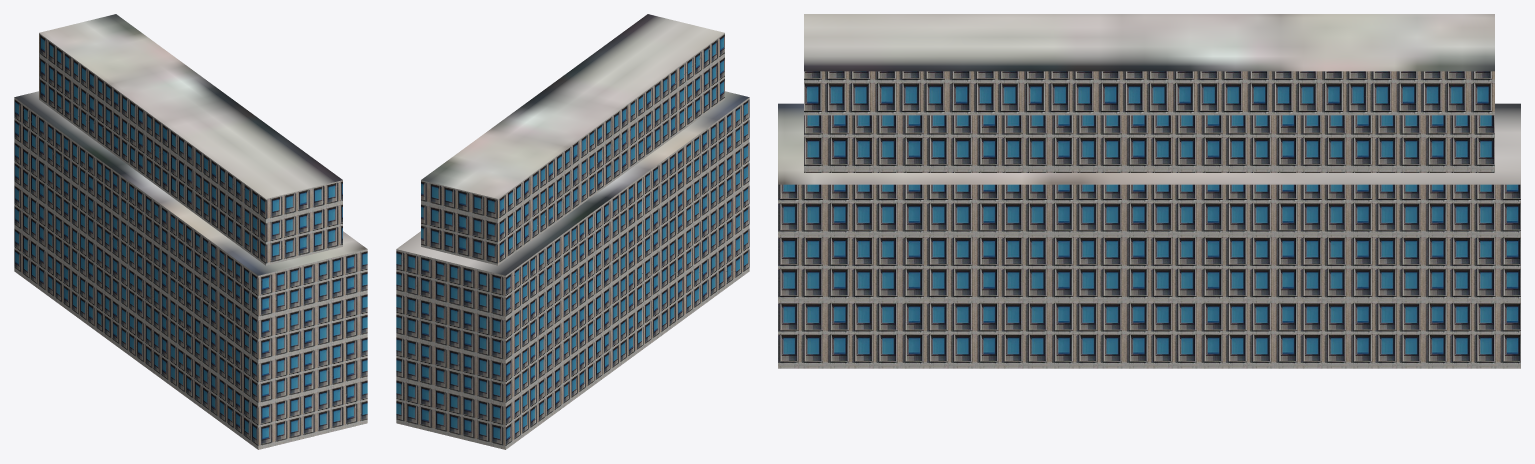
The model's file is ml_ksh.glb.
The picture shows the model from 3 angles, left to right: view 1: azimuth 30°, elevation 25°; view 2: azimuth 150°, elevation 25°; view 3: azimuth 270°, elevation 25°; orthographic projection. The views are drawn at different scales.
Parts seen in each view (by area): view 1: Cube.001; view 2: Cube.001; view 3: Cube.001.
Boxes of the visible parts, x1,y1,x2,y2 form: Cube.001: (14,14,367,449); Cube.001: (396,14,749,449); Cube.001: (778,14,1520,368).
Bounding box in the file's own units: 2 × 4.21 × 7.73.
1 material, 1 textured.
